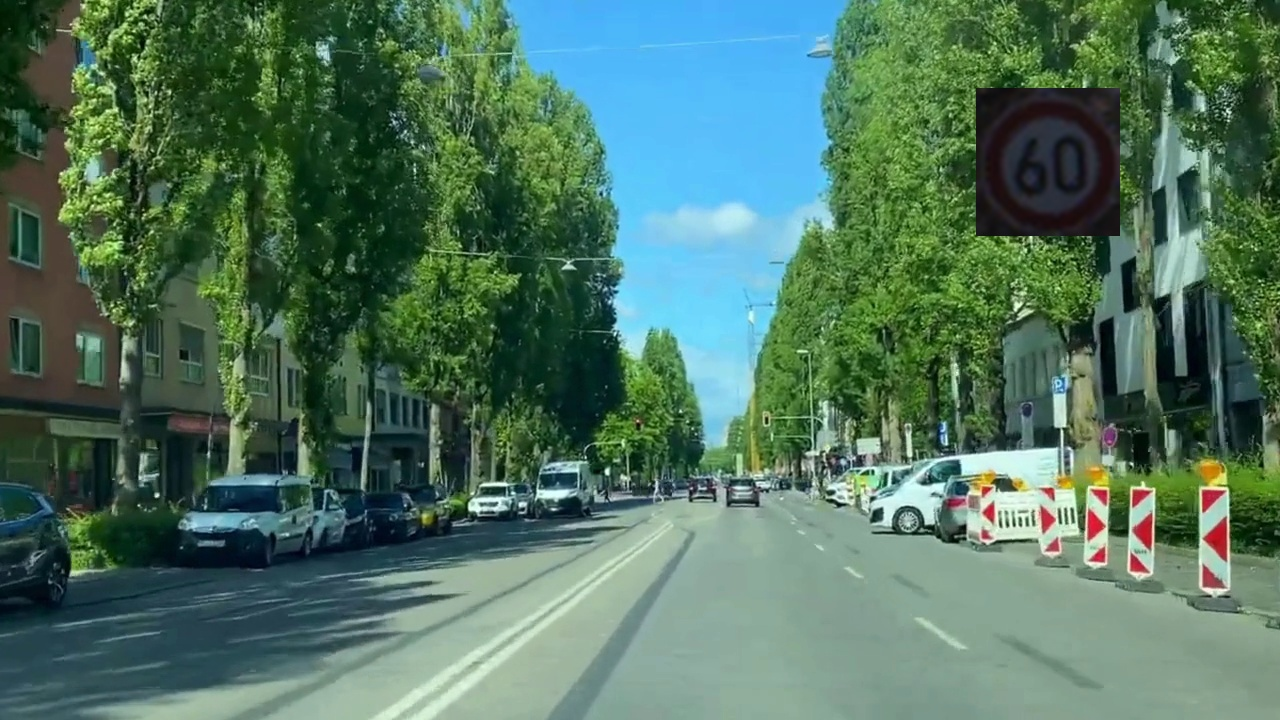Speed 60: (976, 88, 1120, 236)
